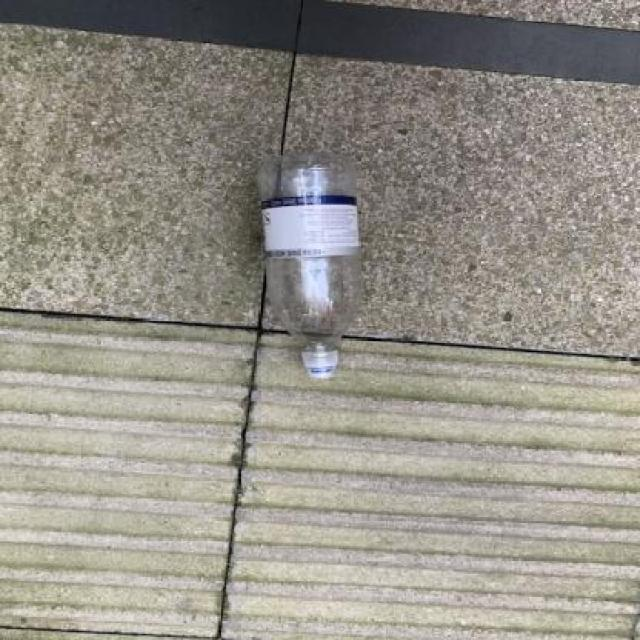trash: (251, 150, 366, 385)
